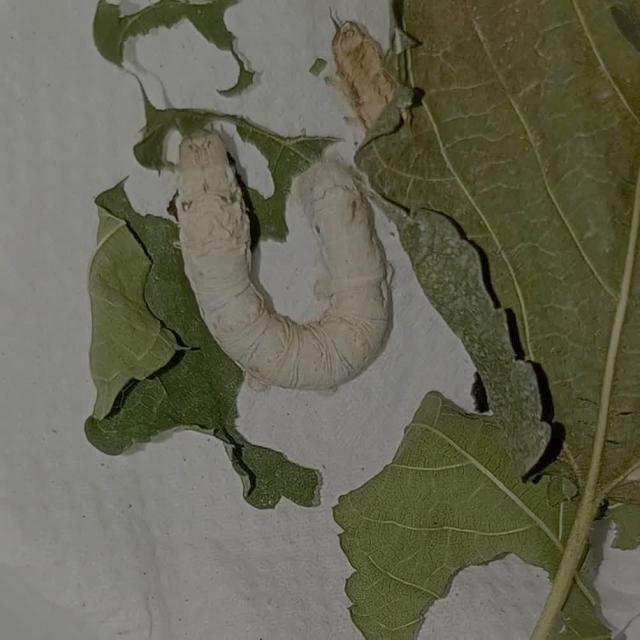Healthy: (146, 91, 420, 439)
